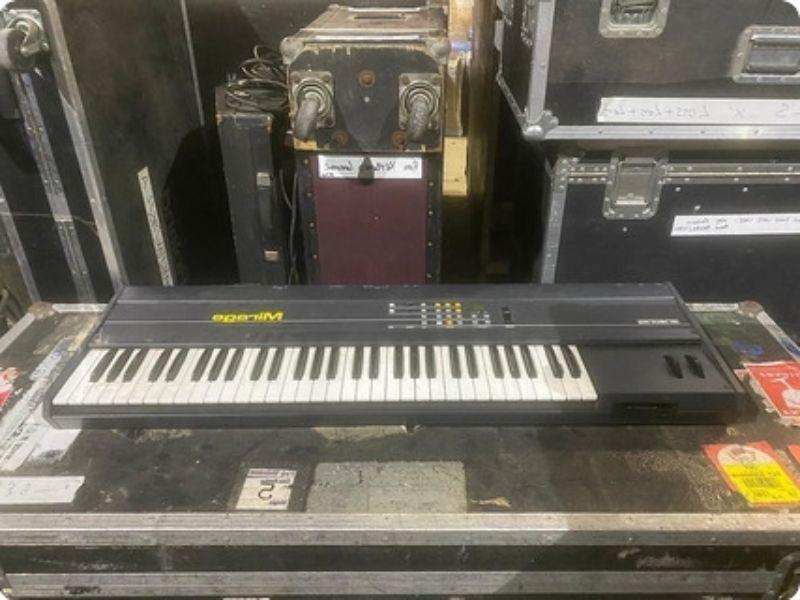synthesizer: (48, 269, 754, 429)
